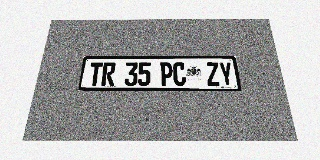3: (124, 62, 138, 86)
5: (138, 62, 151, 86)
C: (173, 62, 186, 86)
P: (160, 62, 173, 86)
R: (101, 62, 116, 86)
T: (88, 62, 103, 86)
Y: (218, 62, 234, 86)
Z: (205, 62, 221, 86)
